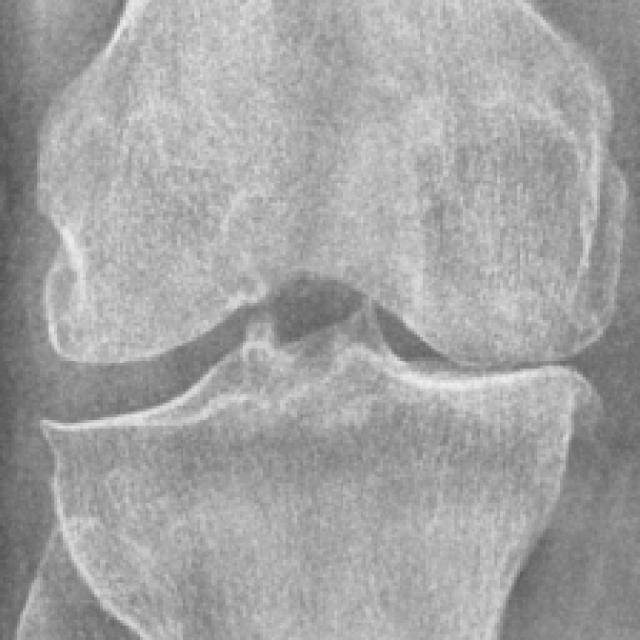femur: (37, 1, 627, 365)
tibia: (46, 311, 586, 637)
